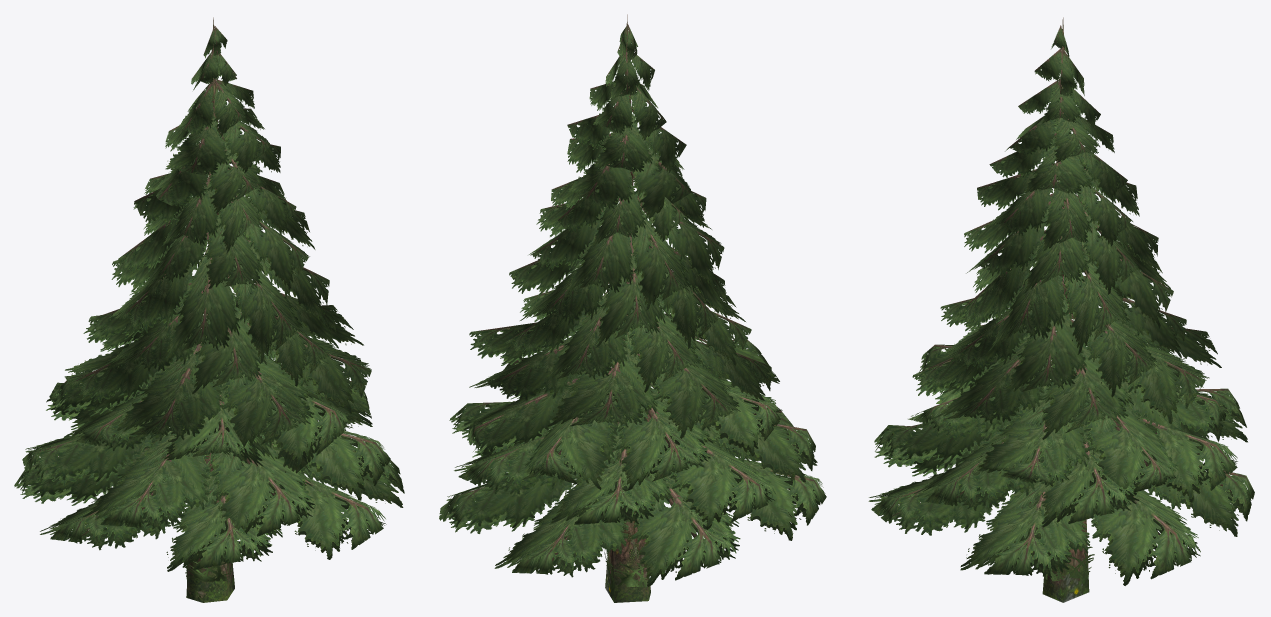
The model's file is pinetree.FBX.
3 views of the same model, side by side, from view 1: azimuth 30°, elevation 25°; view 2: azimuth 150°, elevation 25°; view 3: azimuth 270°, elevation 25° (orthographic).
Visible parts, largest first — view 1: C1SN_PINEA; view 2: C1SN_PINEA; view 3: C1SN_PINEA.
Part boxes in pixels (left/top/right/bottom): C1SN_PINEA: left=14, top=17, right=404, bottom=602; C1SN_PINEA: left=439, top=14, right=826, bottom=602; C1SN_PINEA: left=868, top=17, right=1254, bottom=602.
Size of the model in its own units: 16.6 by 26.91 by 16.81.
Materials: 1 (1 with a texture image).
